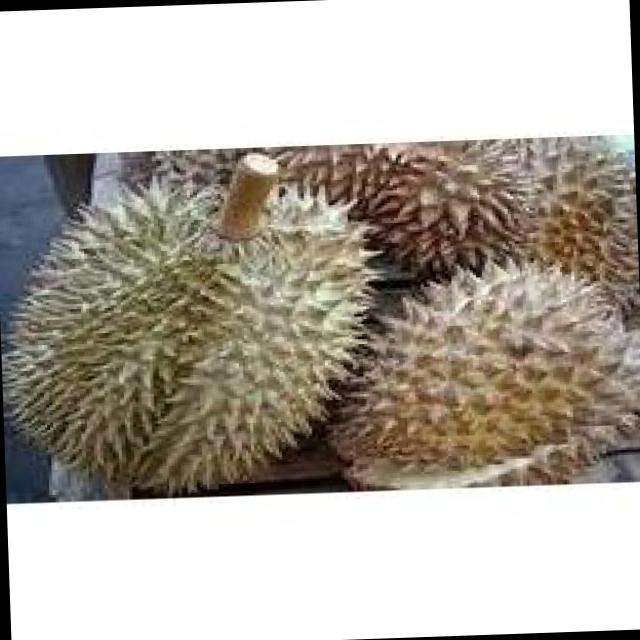fruit: (0, 154, 402, 503)
